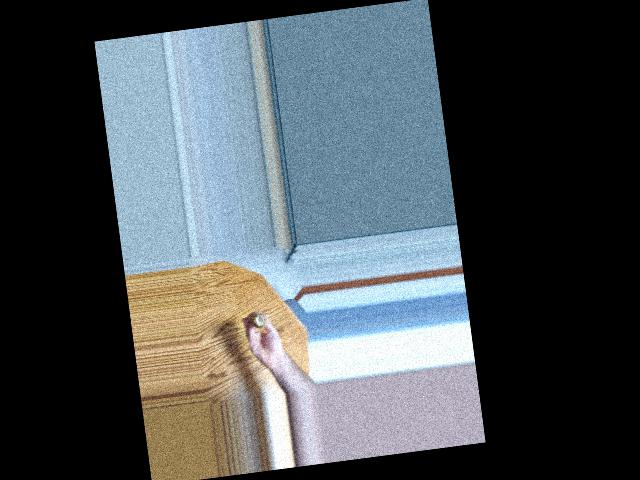sweet_potato: (251, 306, 269, 328)
